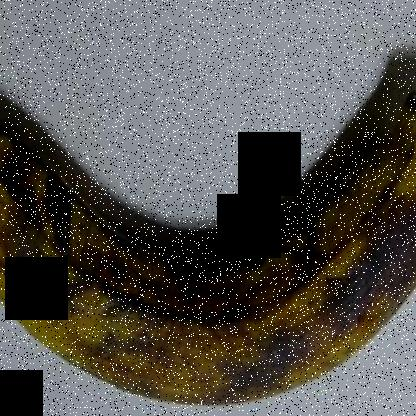rotten: (1, 95, 415, 410)
